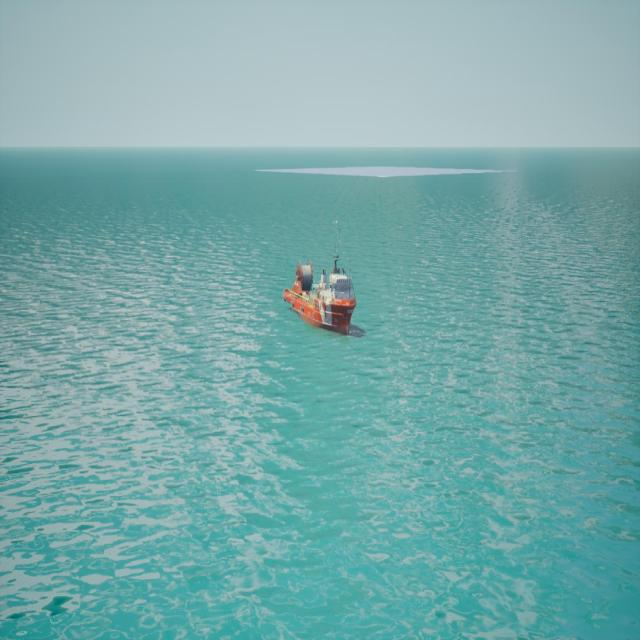tug boat: (280, 220, 363, 341)
